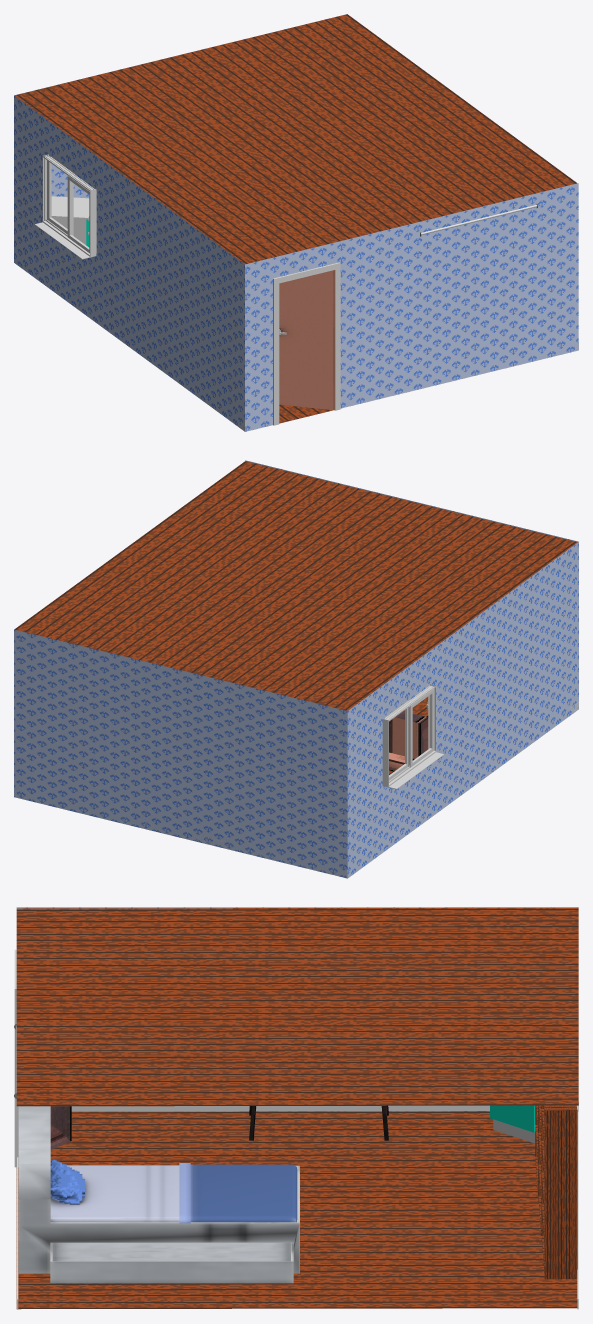
Rendered from mc_room.fbx.
The picture shows the model from 3 angles, top to bottom: view 1: azimuth 30°, elevation 25°; view 2: azimuth 150°, elevation 25°; view 3: azimuth 270°, elevation 25°; orthographic projection. The views are drawn at different scales.
Visible parts, largest first — view 1: Room, floor, Door, DoorFrame, WindowFrame, Cabinet1, Window.L; view 2: Room, floor, WindowFrame, Cube.001, Window.L, Baseboard; view 3: floor, 3d-model.006, 3d-model.004, Plane.002, Shelves1, Baseboard.002, Cabinet1_Door, Door, Room, DoorFrame.
Part boxes in pixels (<box>): Room: <box>14,15,578,431</box>; floor: <box>14,14,576,423</box>; Door: <box>279,270,334,410</box>; DoorFrame: <box>273,262,340,425</box>; WindowFrame: <box>42,154,96,256</box>; Cabinet1: <box>51,196,89,244</box>; Window.L: <box>67,176,89,253</box>; Room: <box>14,460,578,878</box>; floor: <box>14,461,577,774</box>; WindowFrame: <box>382,684,436,786</box>; Cube.001: <box>389,711,428,758</box>; Window.L: <box>408,689,433,767</box>; Baseboard: <box>14,792,346,877</box>; floor: <box>16,907,578,1309</box>; 3d-model.006: <box>18,1106,299,1283</box>; 3d-model.004: <box>50,1159,179,1222</box>; Plane.002: <box>179,1163,297,1223</box>; Shelves1: <box>535,1105,577,1279</box>; Baseboard.002: <box>71,1101,578,1111</box>; Cabinet1_Door: <box>490,1105,535,1132</box>; Door: <box>50,1106,71,1149</box>; Room: <box>16,907,578,908</box>; DoorFrame: <box>14,949,18,1167</box>.
Size of the model in its own units: 522 by 240 by 603.
35 materials, 8 textured.
